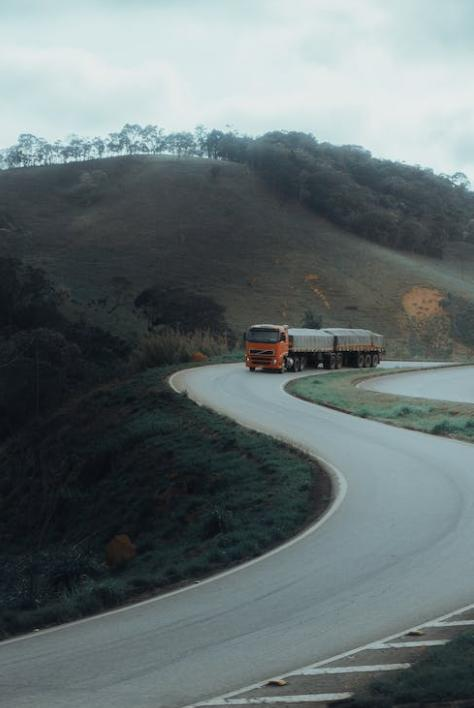vehicle: (242, 324, 383, 374)
